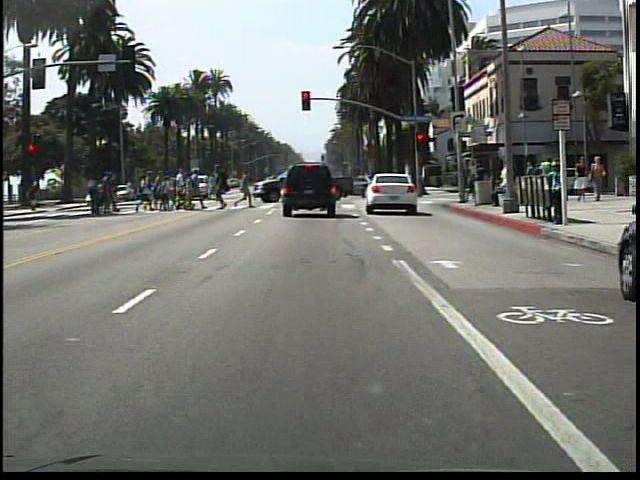person: (544, 156, 563, 224), (572, 155, 591, 206), (589, 153, 607, 204)
